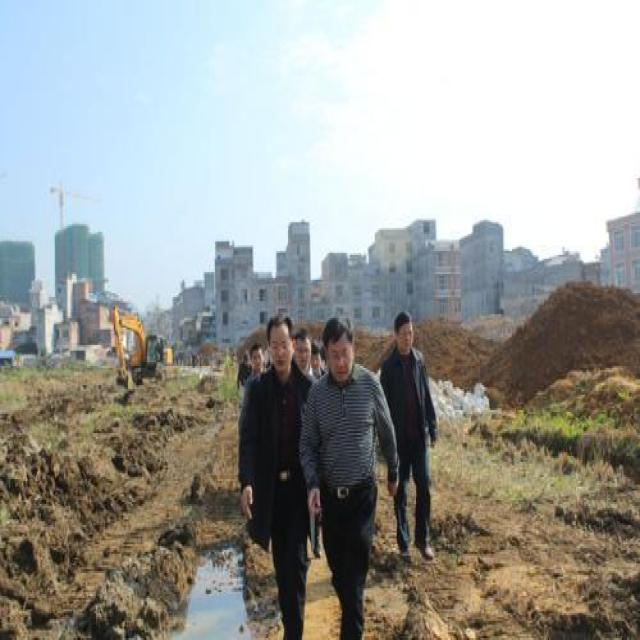no-helmet: (320, 307, 362, 389), (268, 314, 296, 374), (392, 308, 416, 358), (293, 322, 314, 375), (248, 339, 268, 381)
